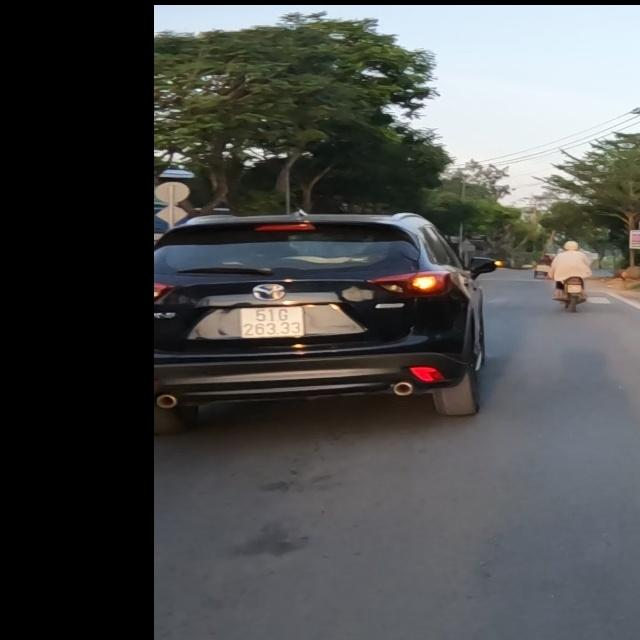license-plate: (236, 305, 307, 340)
